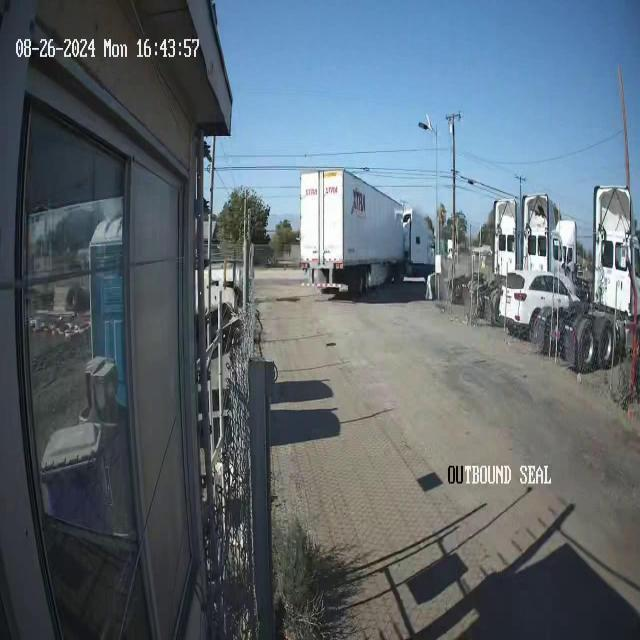TRUCK_OUT: (298, 167, 426, 296)
